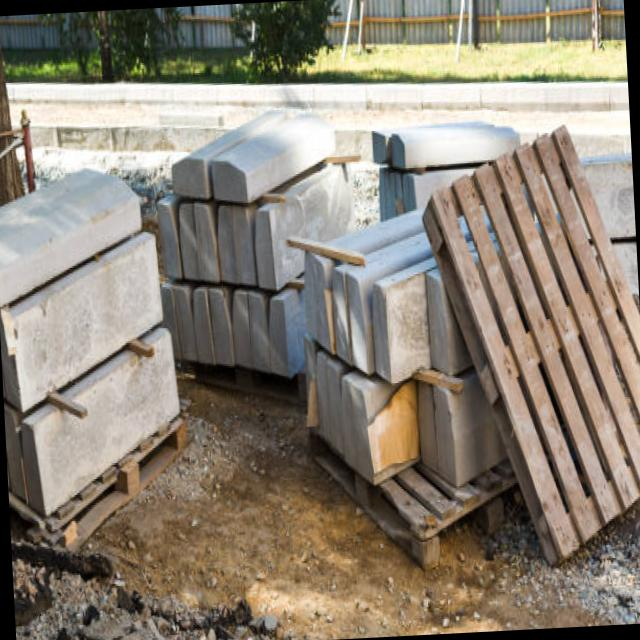Wooden-Pallets: (423, 123, 640, 566), (301, 432, 515, 580), (55, 412, 190, 551)
